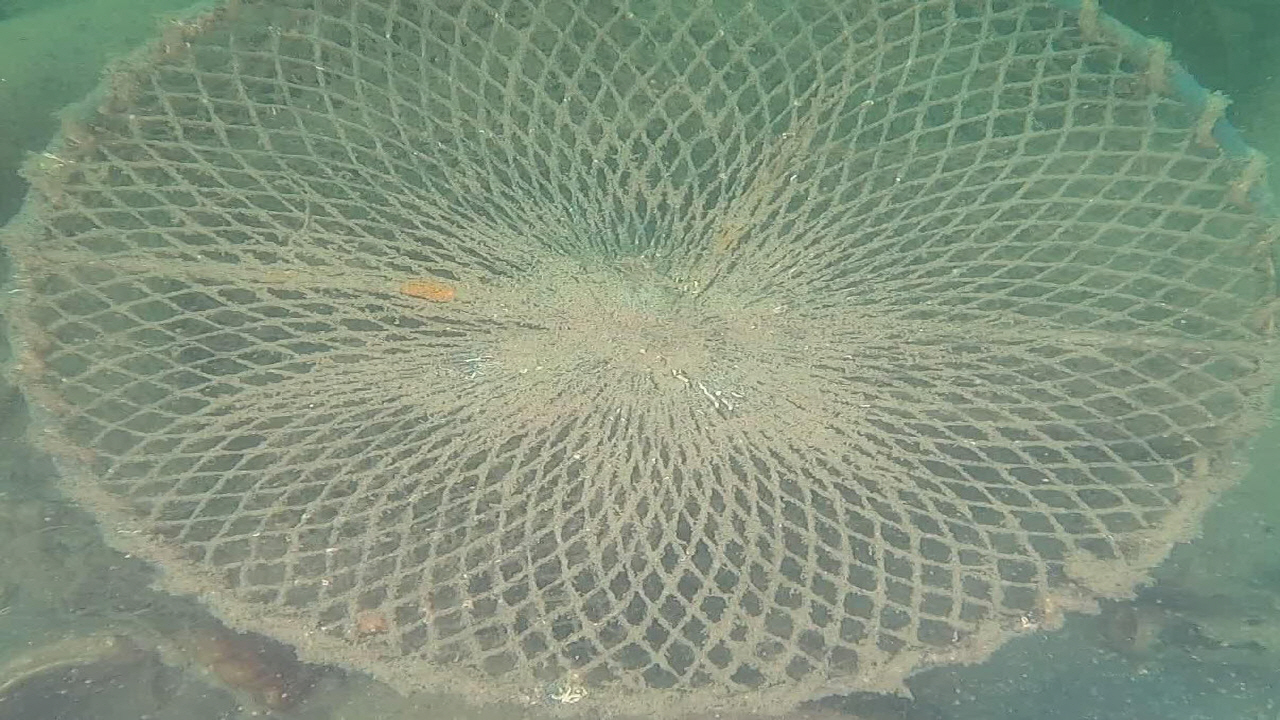circular fish trap: (4, 0, 1276, 713)
